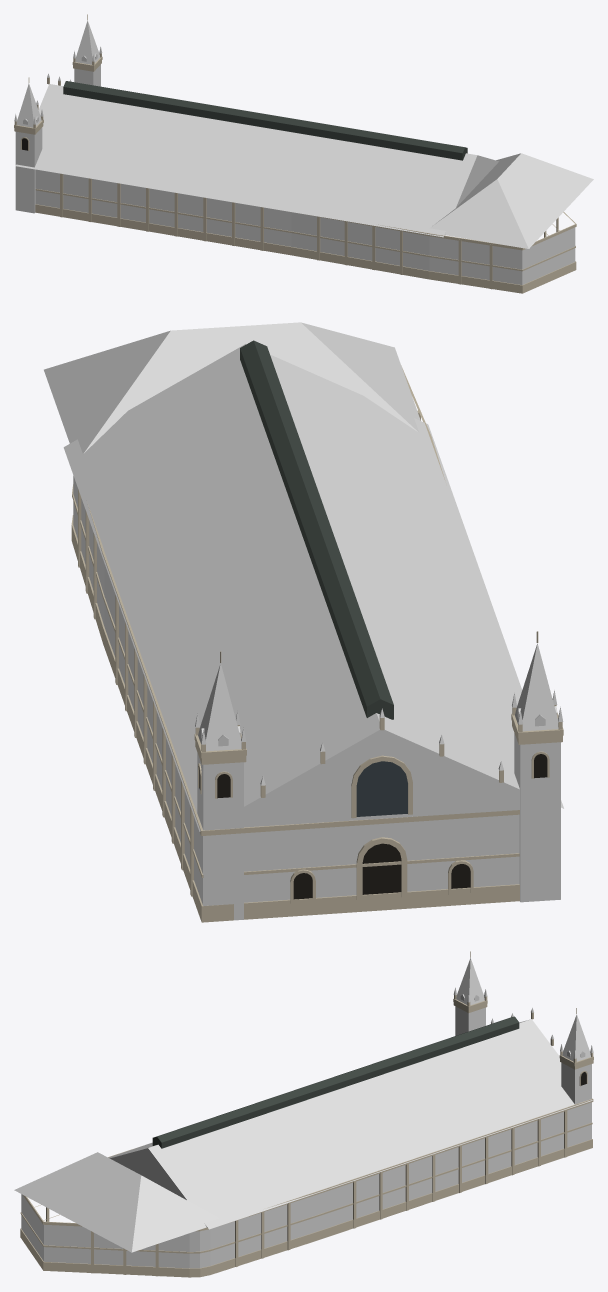
Rendered from marketHall.glb.
3 views of the same model, one above another, from view 1: azimuth 30°, elevation 25°; view 2: azimuth 150°, elevation 25°; view 3: azimuth 270°, elevation 25° (orthographic). The views are drawn at different scales.
Parts seen in each view (by area): view 1: marketHall; view 2: marketHall; view 3: marketHall.
Boxes of the visible parts, bbox=[...] form: marketHall: bbox=[14, 14, 593, 293]; marketHall: bbox=[44, 322, 563, 922]; marketHall: bbox=[14, 951, 593, 1277].
Size of the model in its own units: 156 by 46.29 by 175.
